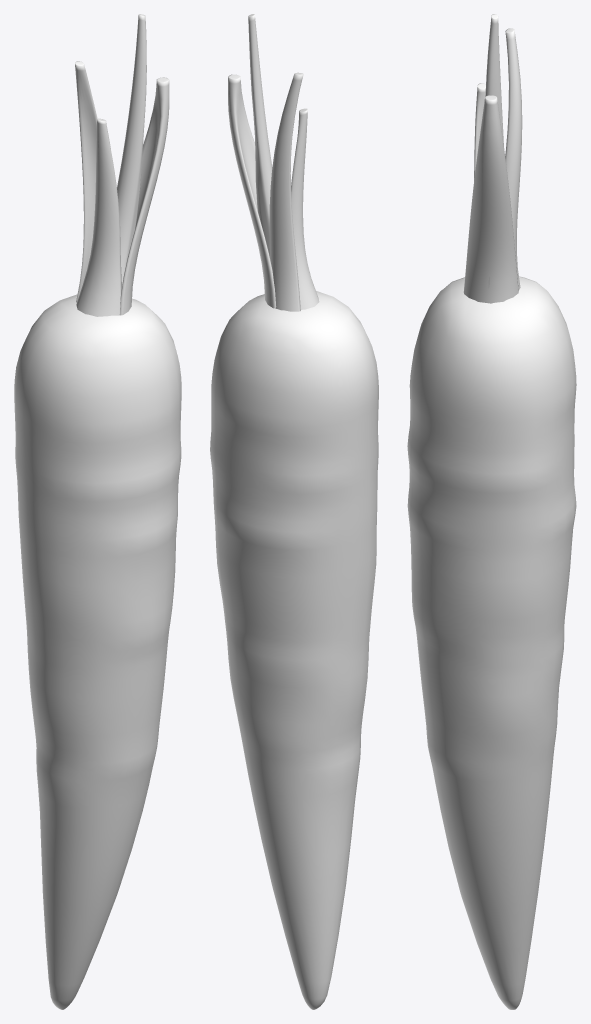
The model's file is export_carrot_animation2.glb.
3 views of the same model, side by side, from view 1: azimuth 30°, elevation 25°; view 2: azimuth 150°, elevation 25°; view 3: azimuth 270°, elevation 25° (orthographic). The views are drawn at different scales.
Parts seen in each view (by area): view 1: node_id5; view 2: node_id5; view 3: node_id5.
Boxes of the visible parts, x1,y1,x2,y2 form: node_id5: (14, 14, 181, 1009); node_id5: (210, 14, 378, 1009); node_id5: (407, 14, 576, 1009).
Size of the model in its own units: 0.0861 by 0.544 by 0.0809.
Materials: 1 (1 with a texture image).
